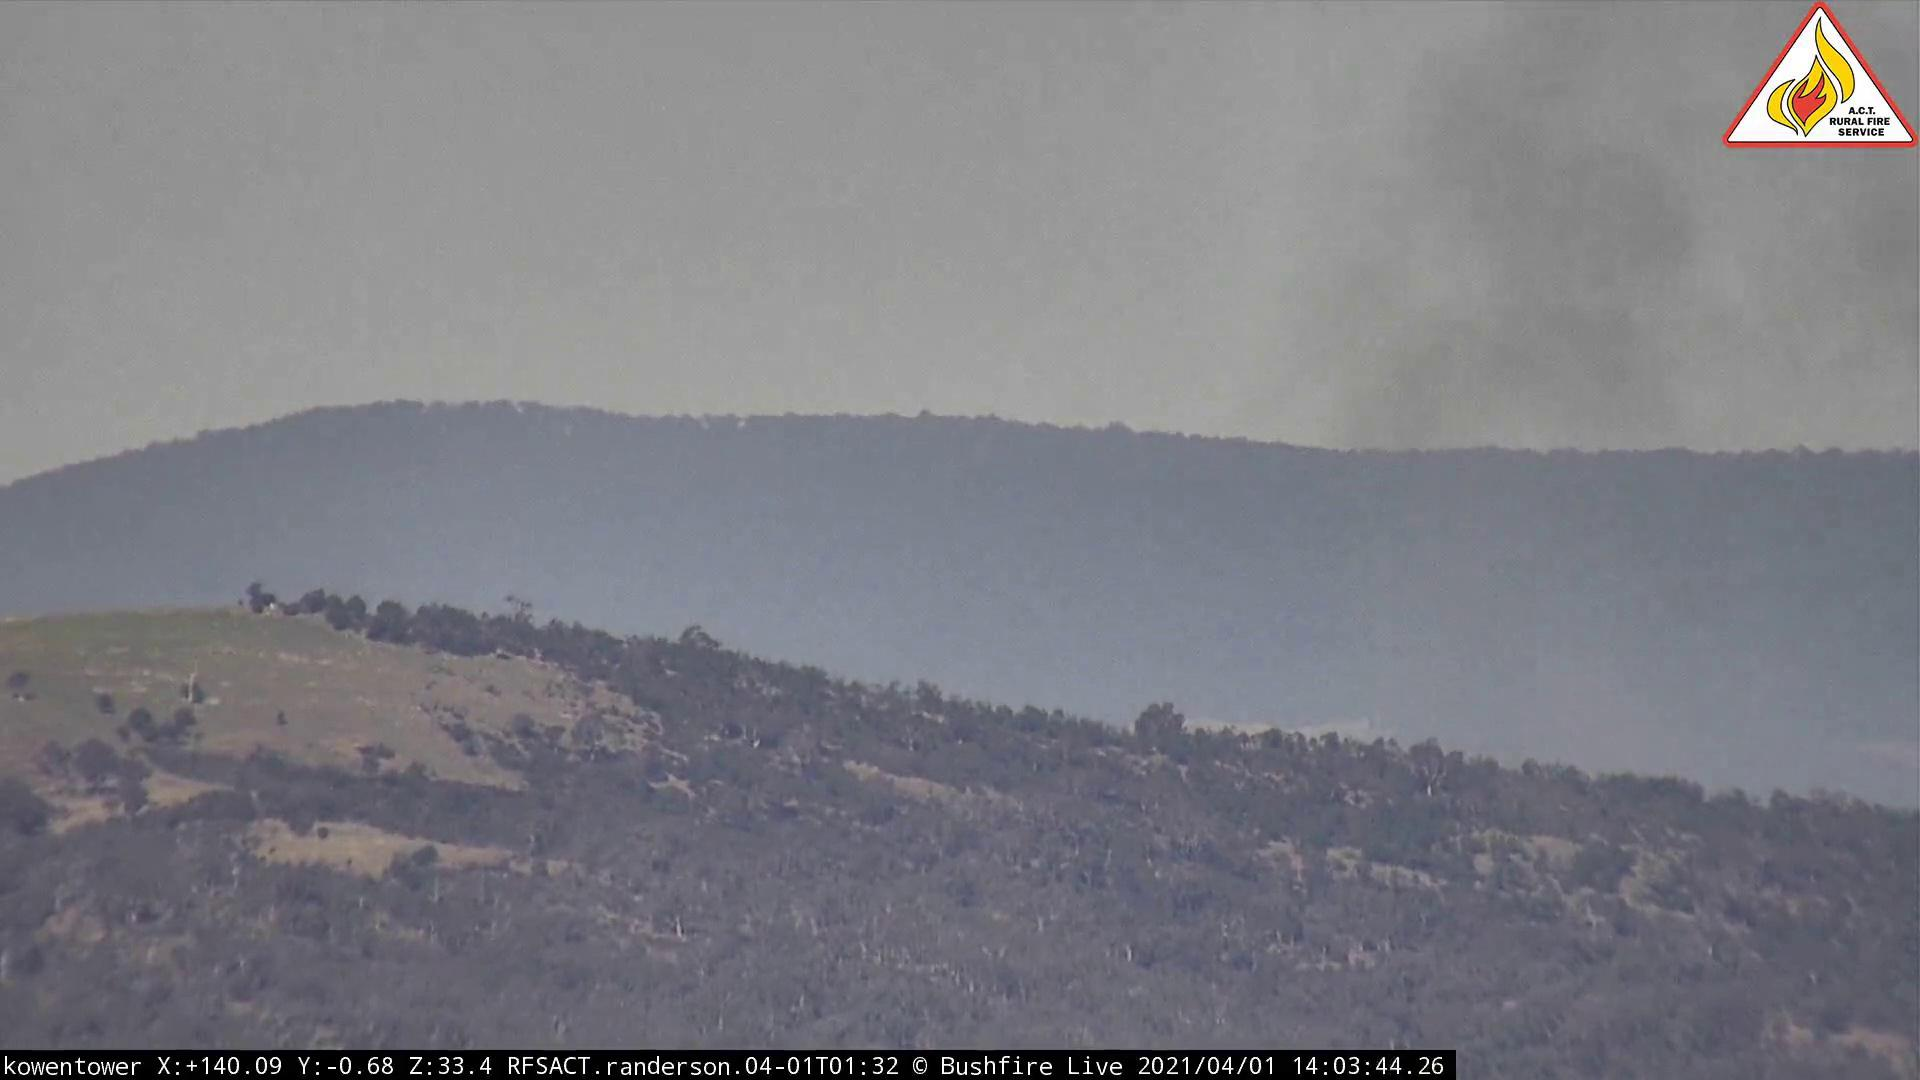Smoke: (1316, 164, 1917, 822)
